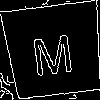M: (29, 25, 76, 76)
